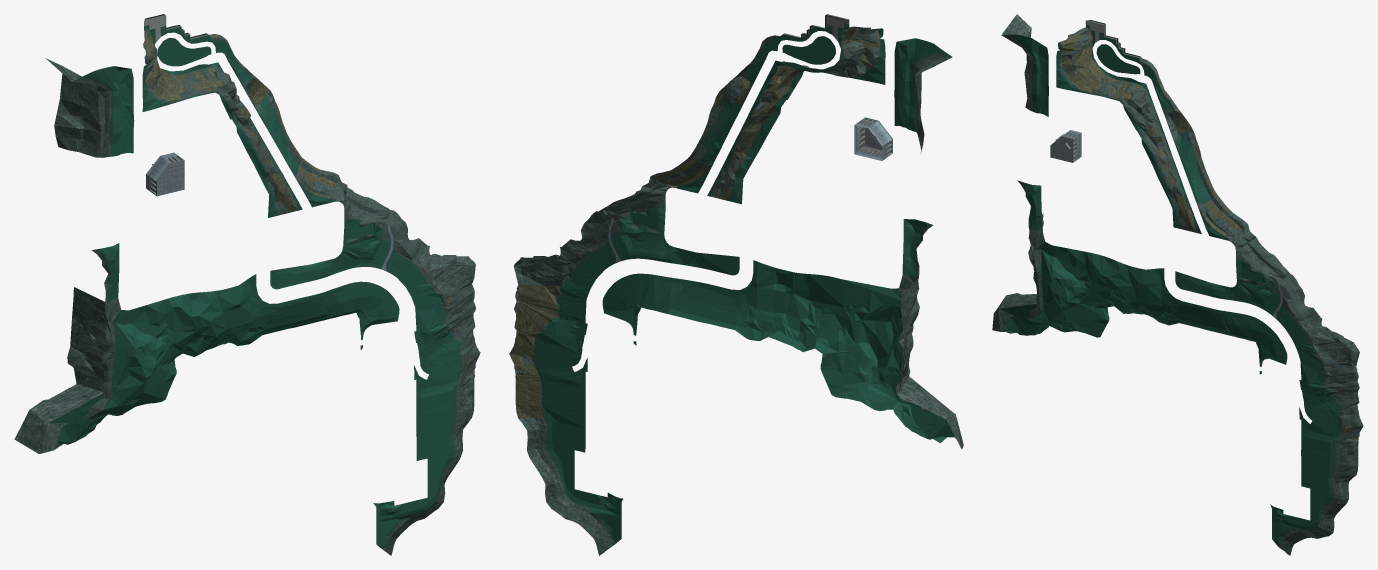
The model's file is landsw_landsw__part_04.obj.
The picture shows the model from 3 angles, left to right: view 1: azimuth 30°, elevation 25°; view 2: azimuth 150°, elevation 25°; view 3: azimuth 330°, elevation 25°; orthographic projection. The views are drawn at different scales.
Parts seen in each view (by area): view 1: landsw_landsw__part_04; view 2: landsw_landsw__part_04; view 3: landsw_landsw__part_04.
Boxes of the visible parts, x1,y1,x2,y2 form: landsw_landsw__part_04: [14, 14, 480, 555]; landsw_landsw__part_04: [509, 14, 963, 555]; landsw_landsw__part_04: [992, 14, 1363, 555].
Size of the model in its own units: 993 by 1231 by 161.
96 materials, 96 textured.
